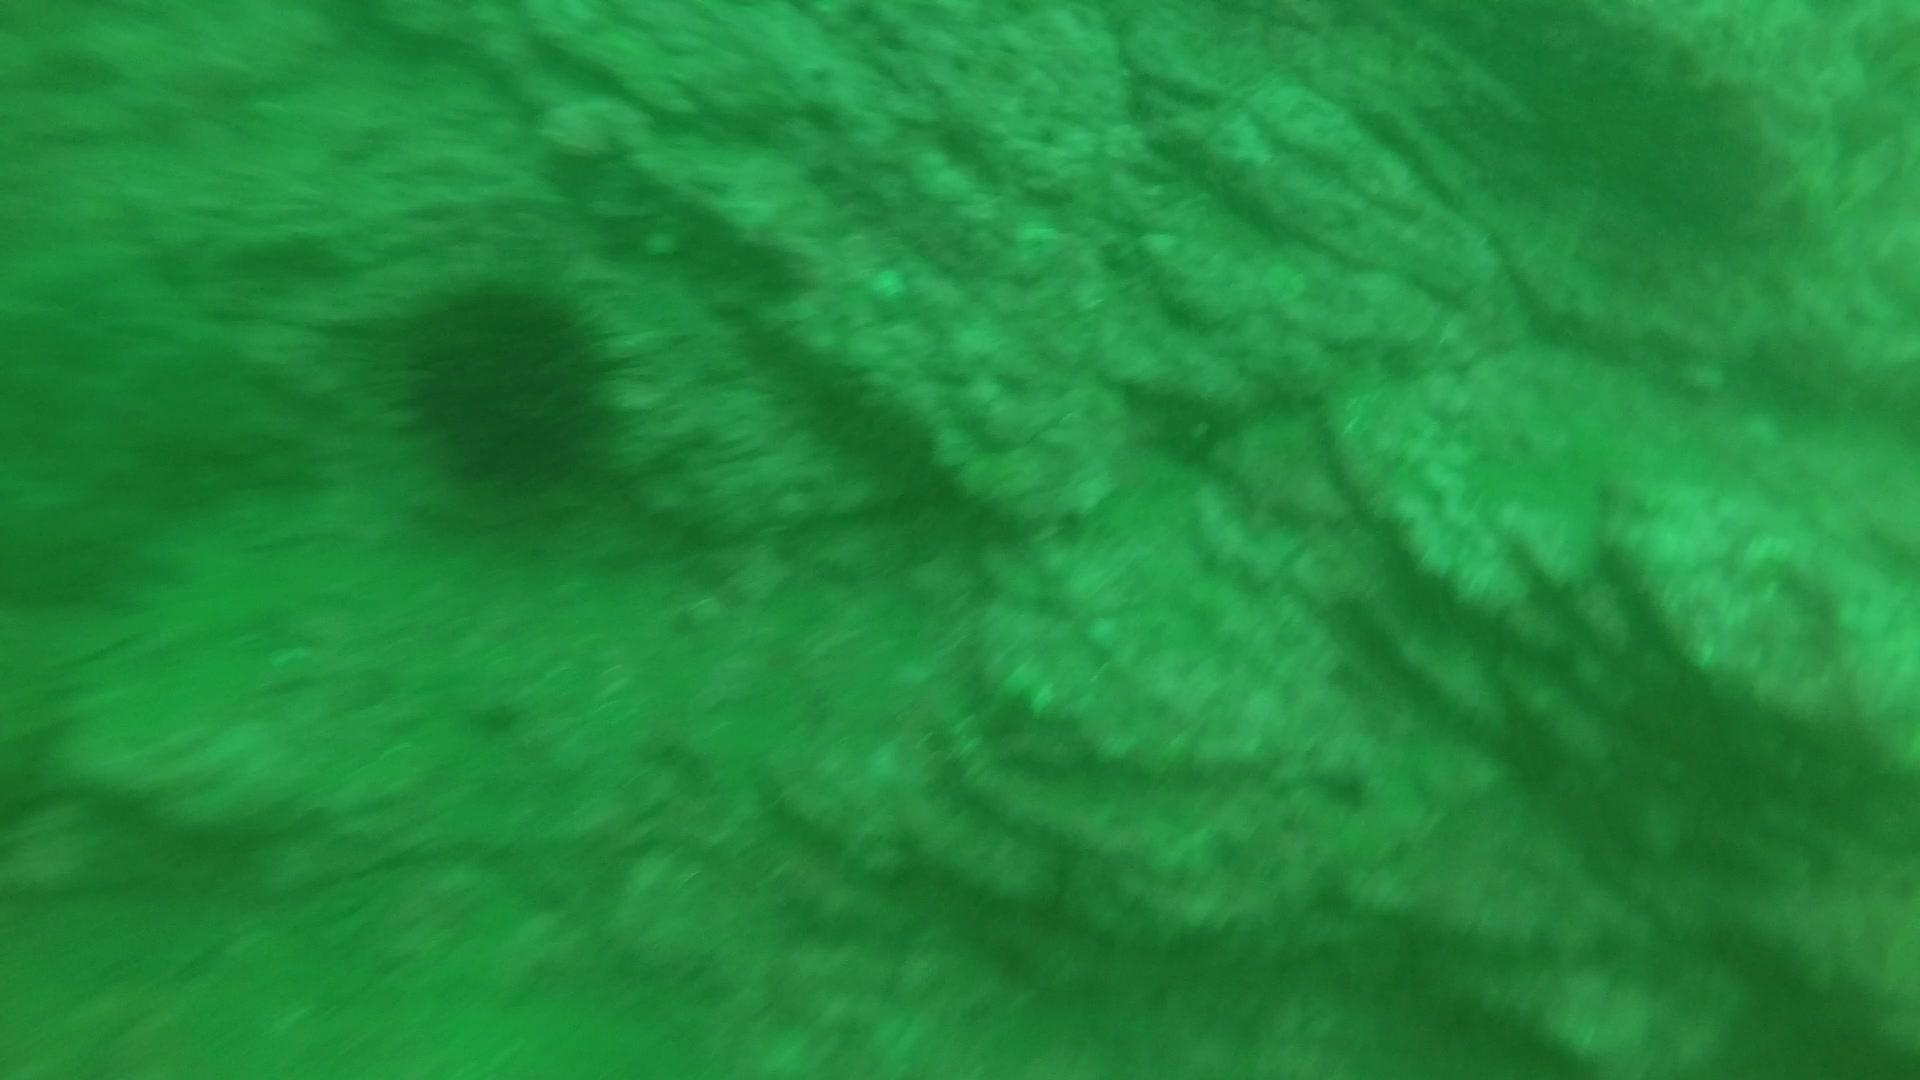echinus: (380, 266, 636, 508)
